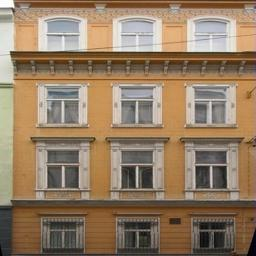building: (13, 0, 256, 256)
